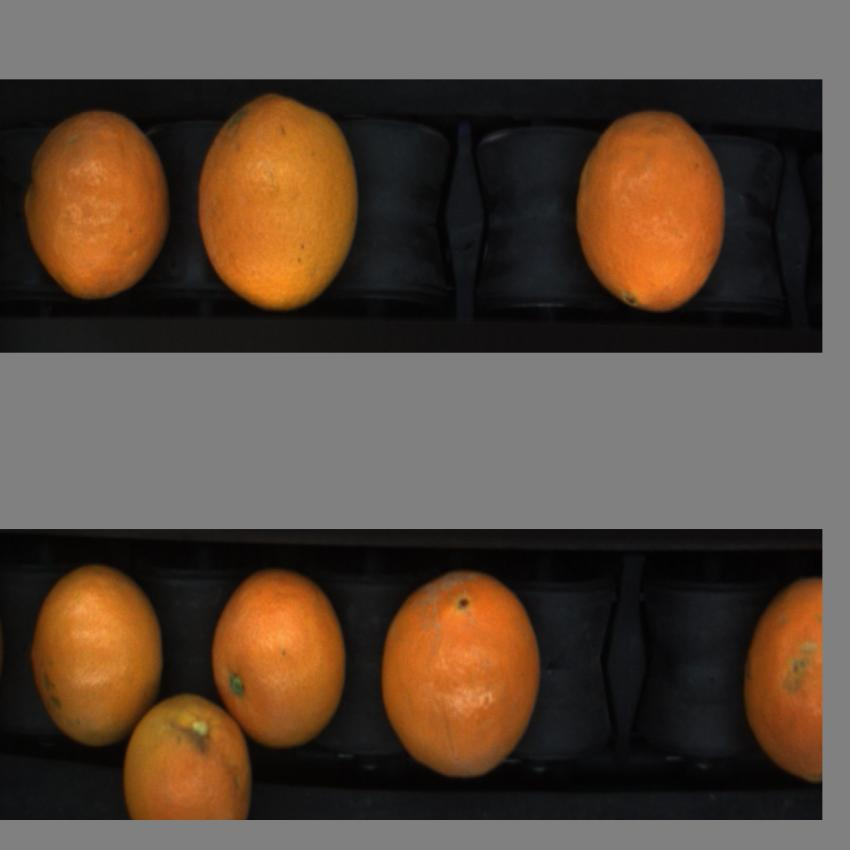Buen estado: (194, 88, 368, 318), (379, 560, 545, 784), (574, 109, 735, 322), (22, 101, 174, 311), (31, 560, 170, 750), (210, 563, 349, 752), (736, 567, 823, 788), (121, 682, 258, 817)
